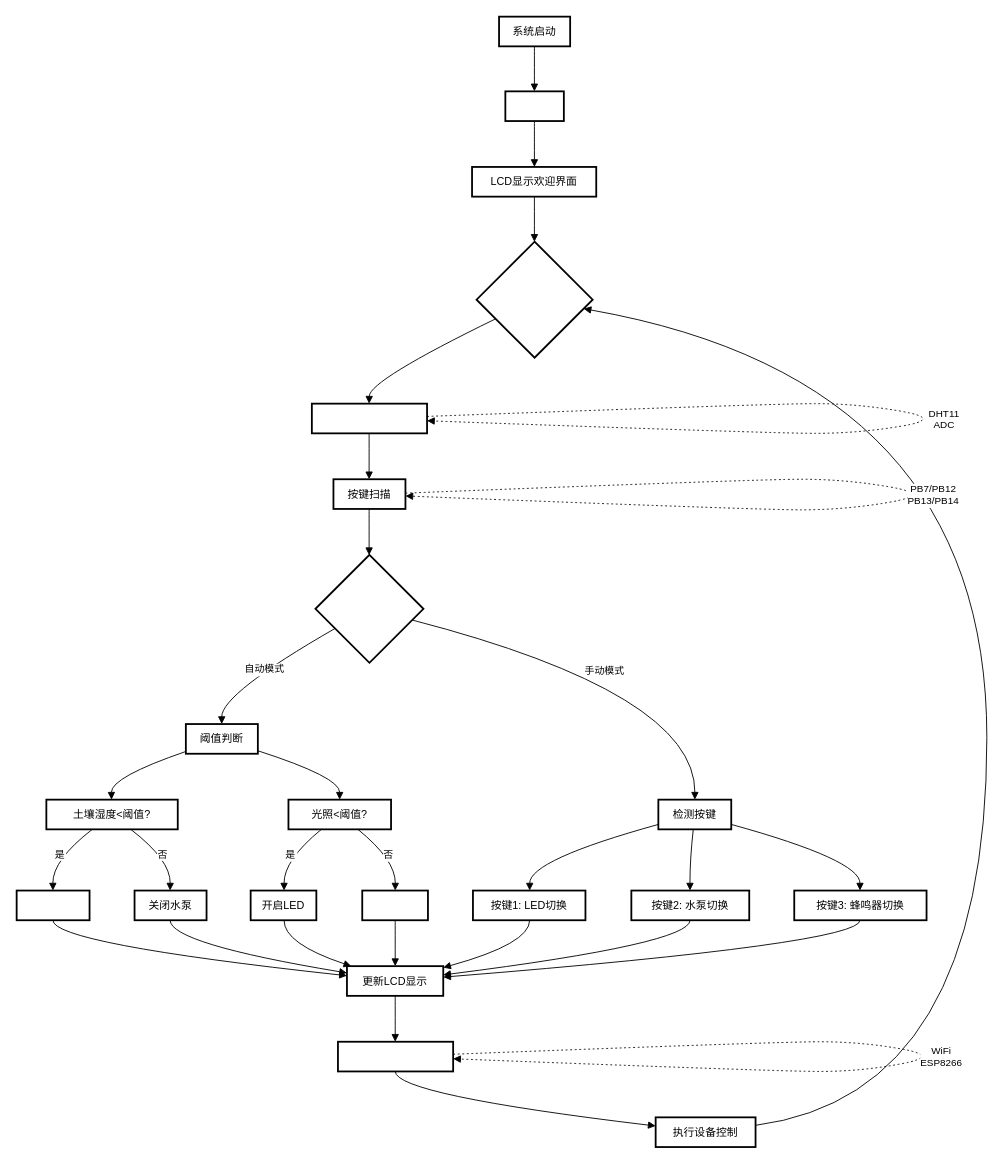
Image size: 1003x1163. Some labels were removed from this diagram. Here are the shapes that lost their labels. From the top down, the centre of each, then its label:
(534,106): 初始化
(534,299): 主循环开始
(369,418): 读取传感器数据
(369,608): 模式选择?
(52,905): 启动水泵
(394,905): 关闭LED
(395,1056): 机智云数据同步
